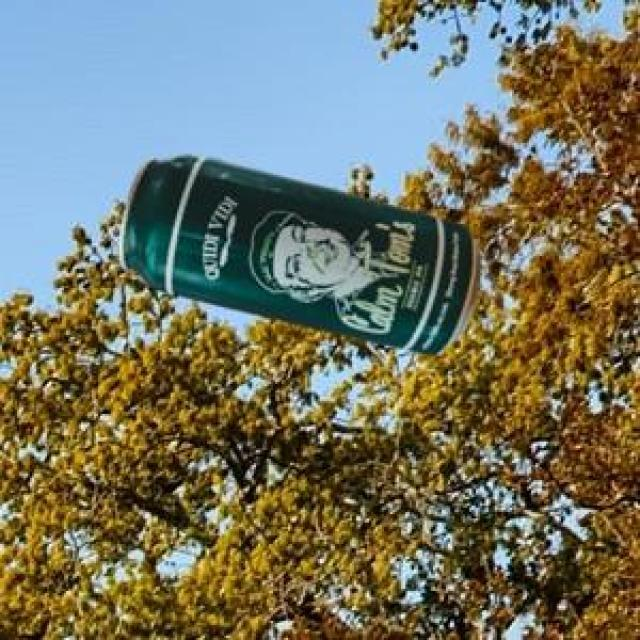Can: (116, 150, 477, 351)
